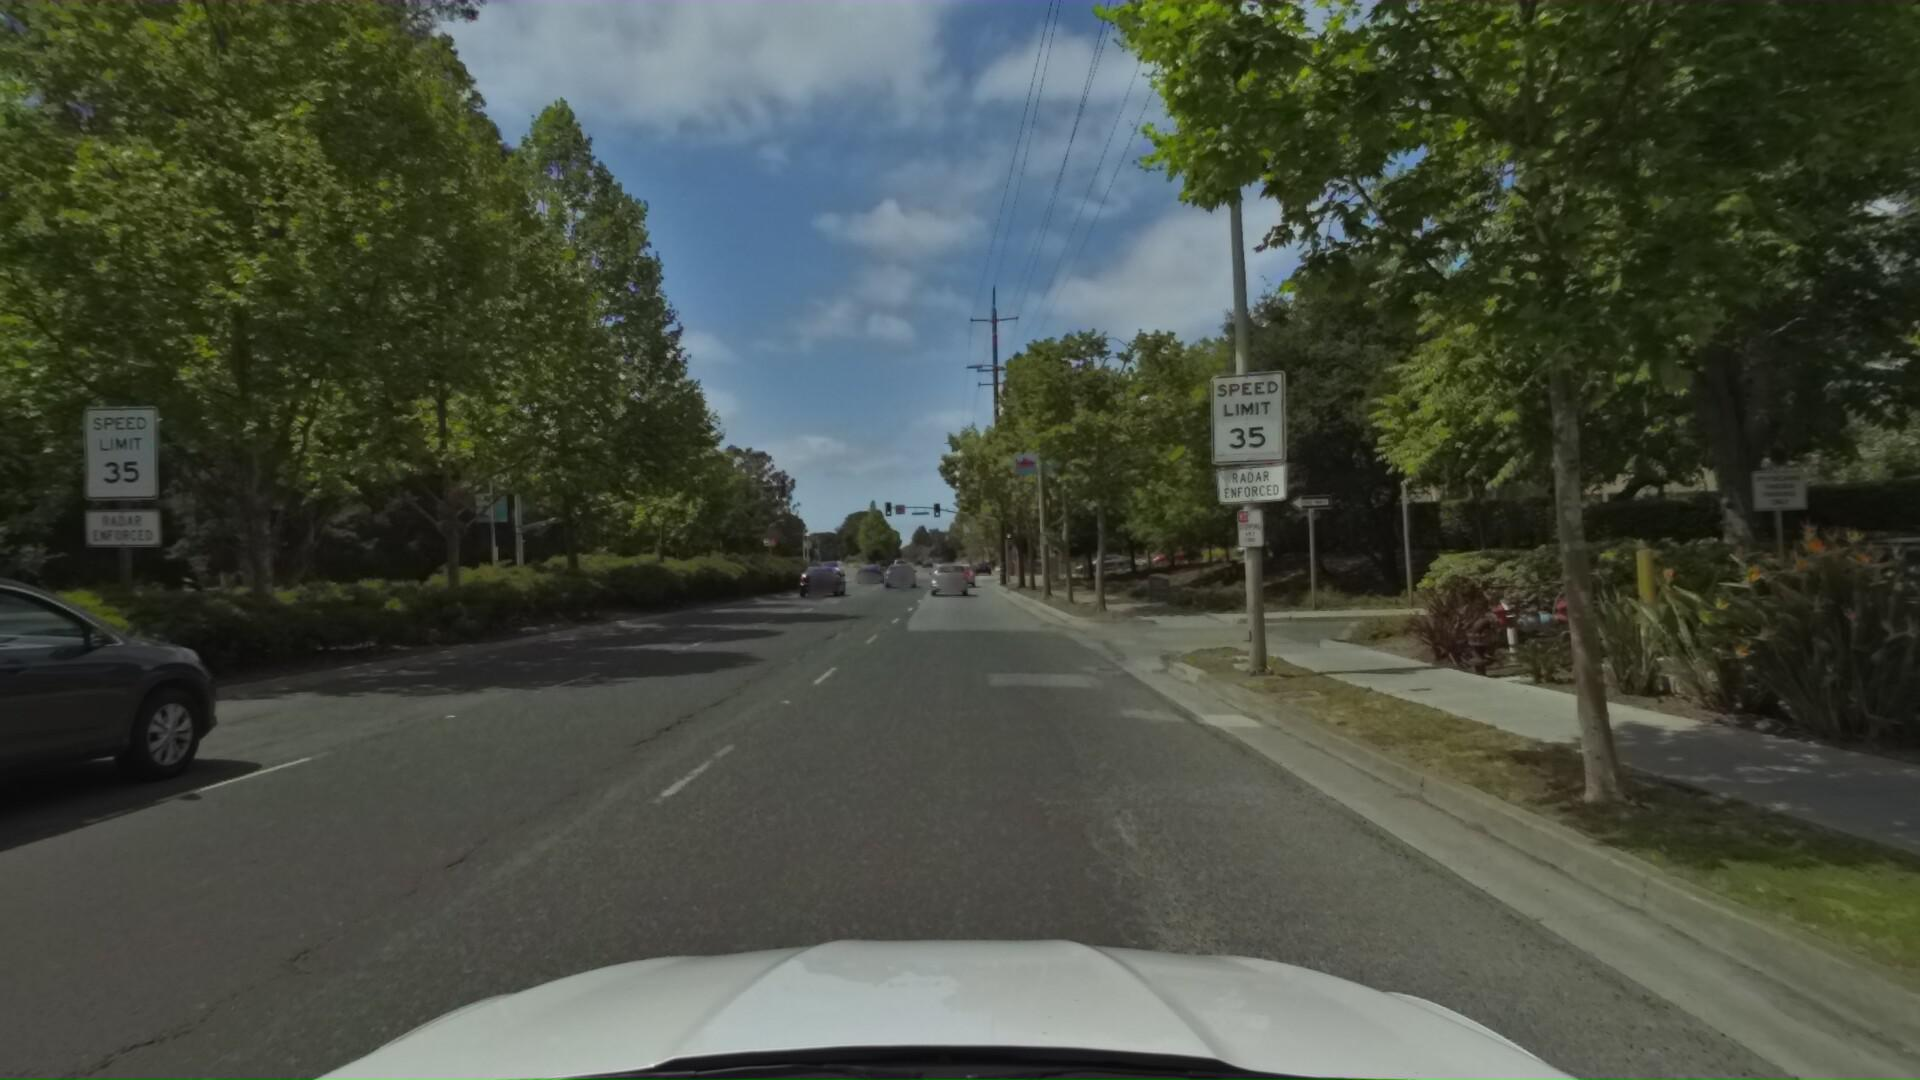car: (0, 563, 264, 972), (1656, 505, 1920, 773), (924, 558, 971, 603), (789, 563, 847, 599), (1236, 530, 1296, 554), (1072, 549, 1131, 571), (1149, 542, 1204, 563), (880, 560, 916, 587), (949, 560, 981, 587), (853, 562, 882, 583)
